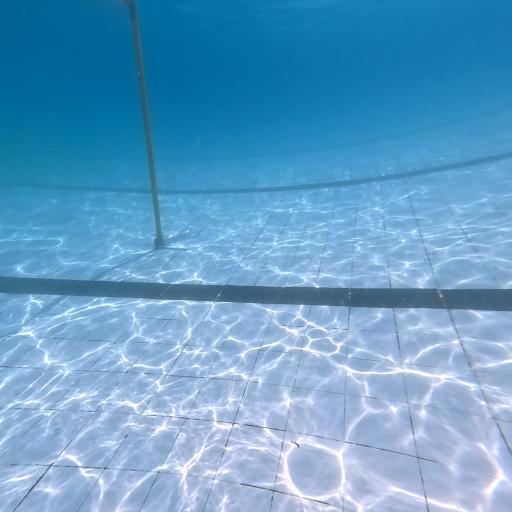pole_gate: (127, 0, 190, 248)
